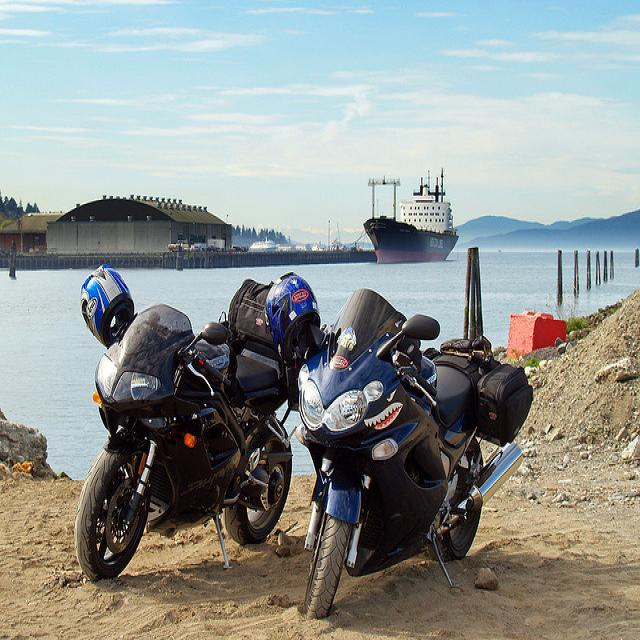motor: (299, 288, 525, 620), (65, 268, 296, 581)
